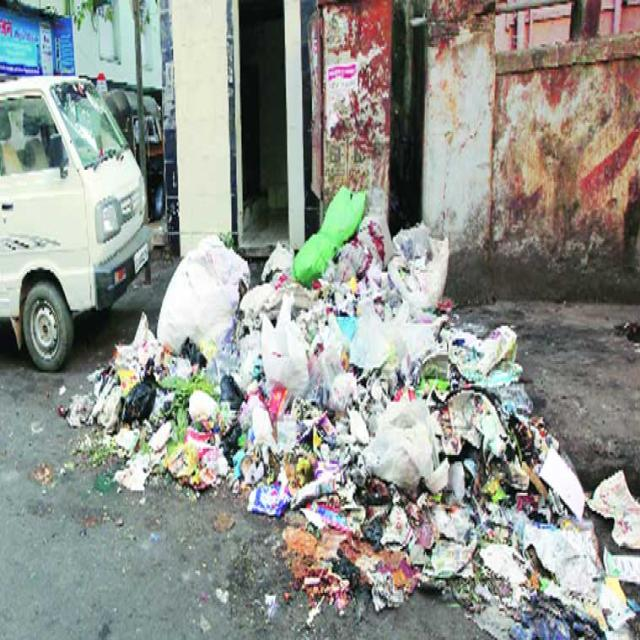garbage: (43, 183, 640, 640)
